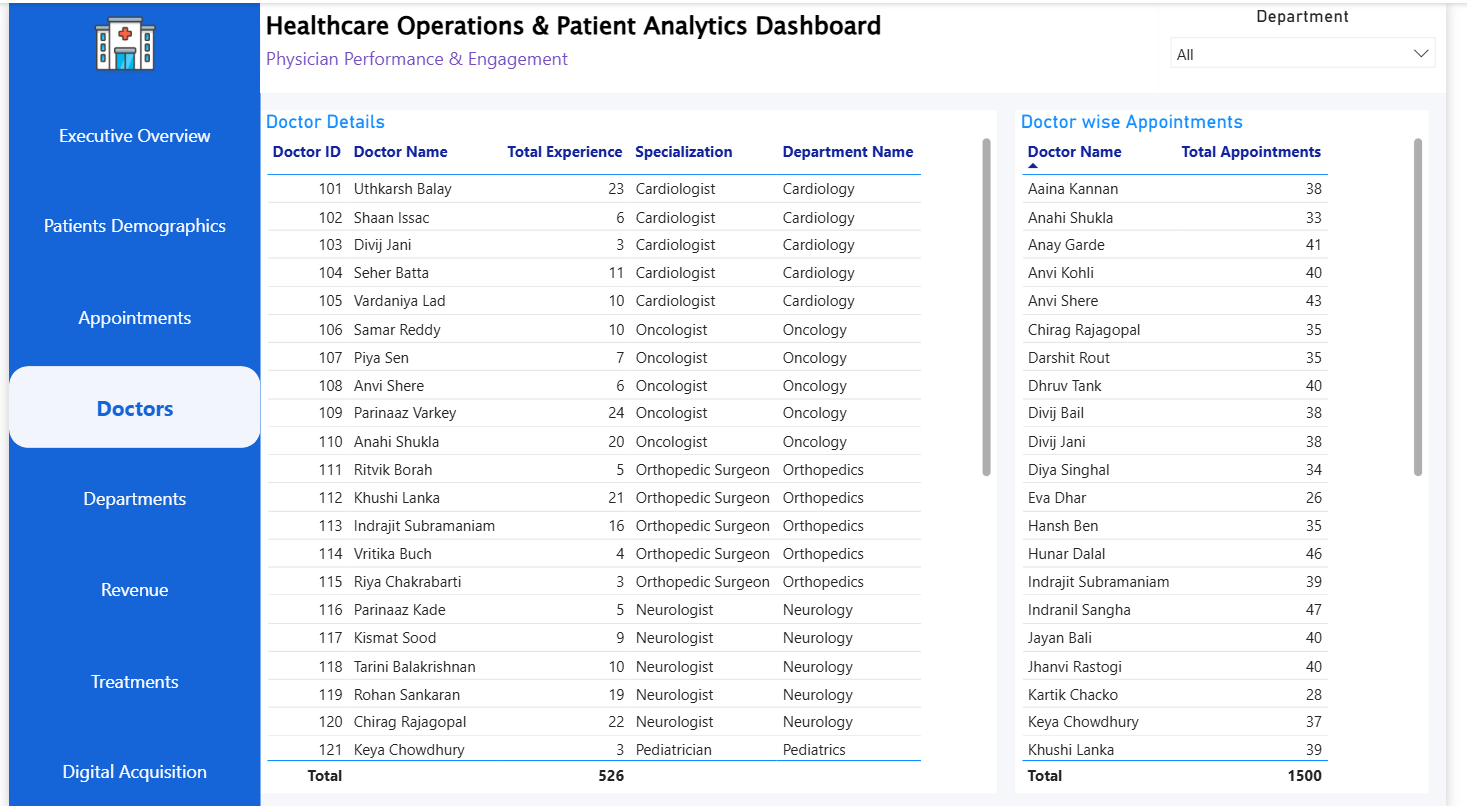

Layout of this report page (visuals, bound fields, positions):
{"tool":"powerbi","page":{"name":"Doctors","canvas":[1280,720],"ordinal":3},"visuals":[{"type":"shape","box":[0,0,224,80],"z":0,"group":"g1"},{"type":"tableEx","title":"Doctor Details","fields":{"Values":["Doctors.Doctor_ID","Doctors.Doctor_Name","Sum(Doctors.Experience_Years)","Doctors.Specialization","Departments.Department_Name"]},"box":[224,96,656,608],"z":0},{"type":"image","box":[64,0,80,64],"z":1000,"group":"g1"},{"type":"tableEx","title":"Doctor wise Appointments","fields":{"Values":["vw_Top_Doctors.Doctor_Name","Sum(vw_Top_Doctors.Total_Appointments)"]},"box":[896,96,368,608],"z":1000},{"type":"pageNavigator","box":[0,80,224,640],"z":2000},{"type":"group","id":"g1","title":"Group 1","box":[0,0,224,80],"z":3000},{"type":"textbox","box":[224,0,800,80],"z":4000},{"type":"slicer","title":"Department","fields":{"Values":["Departments.Department_Name"]},"box":[1024,0,256,80],"z":5000}]}

Visuals, with their boxes on the page's 1280x720 design canvas (x1, y1, x2, y2). These are canvas units, not pixel positions in the 1467x806 screenshot, which may show the page scaled, cropped or inside an application window:
shape: rect(0, 0, 224, 80)
"Doctor Details" tableEx: rect(224, 96, 880, 704)
image: rect(64, 0, 144, 64)
"Doctor wise Appointments" tableEx: rect(896, 96, 1264, 704)
pageNavigator: rect(0, 80, 224, 720)
"Group 1" group: rect(0, 0, 224, 80)
textbox: rect(224, 0, 1024, 80)
"Department" slicer: rect(1024, 0, 1280, 80)
